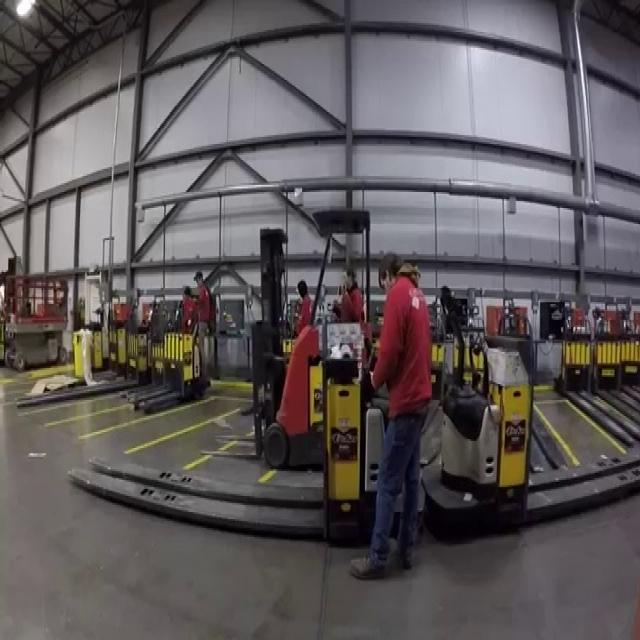Chariot elevateur: (267, 201, 373, 471)
